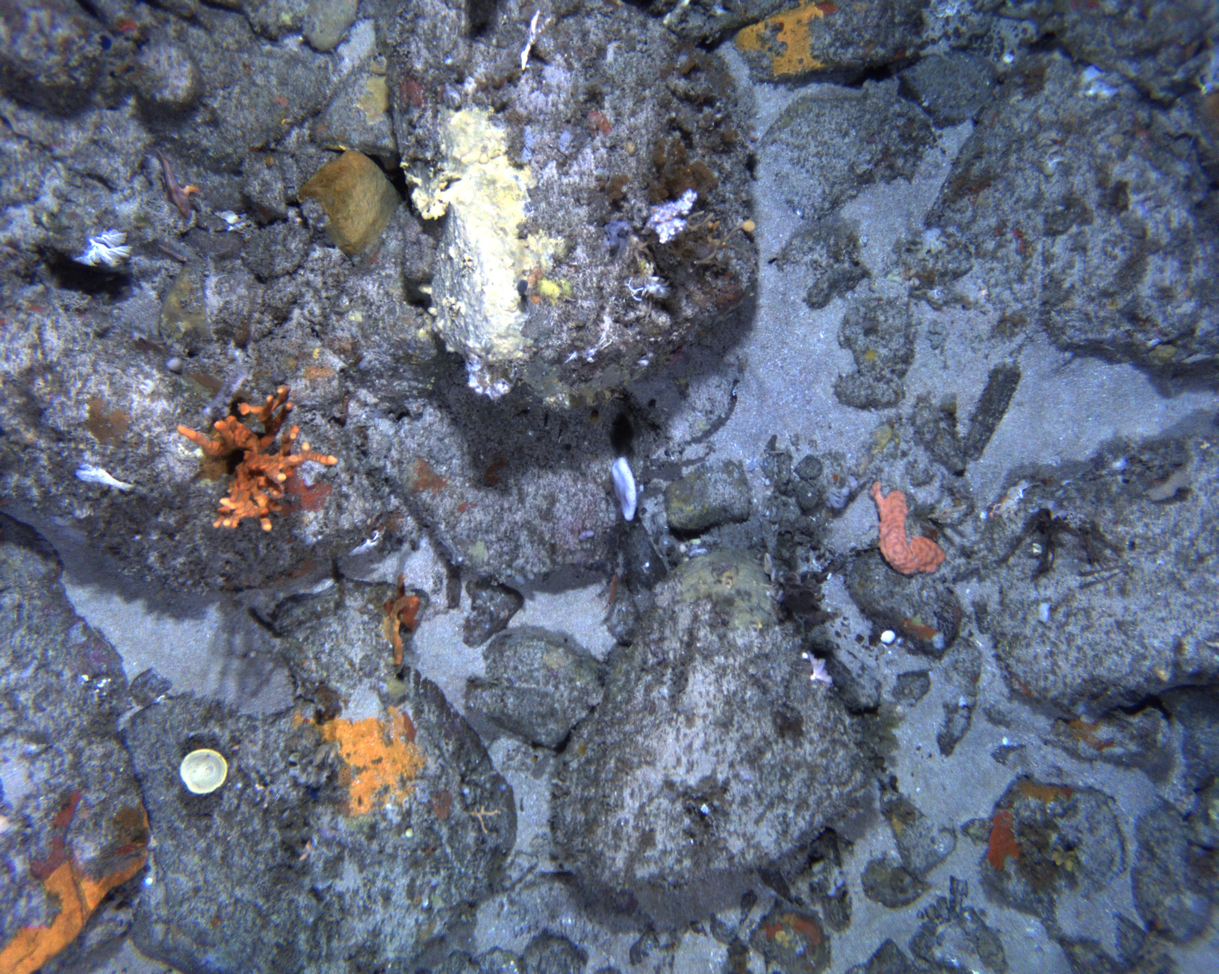Brachionichthyidae: (151, 147, 202, 222)
